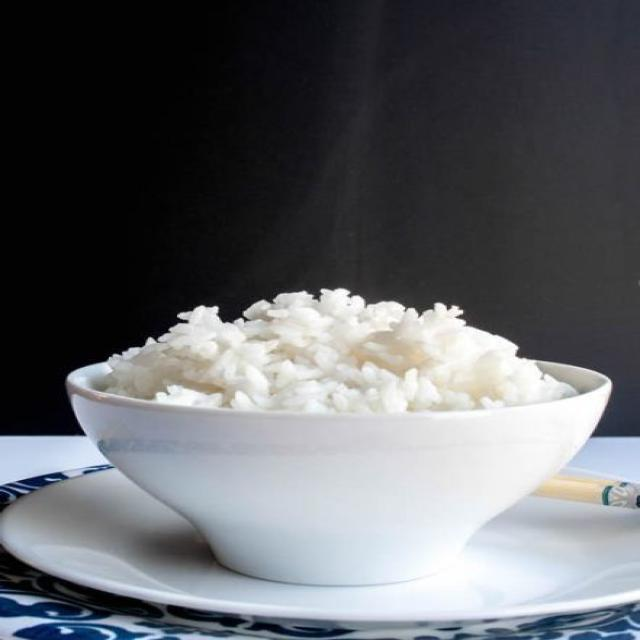nasi_putih: (110, 282, 574, 454)
